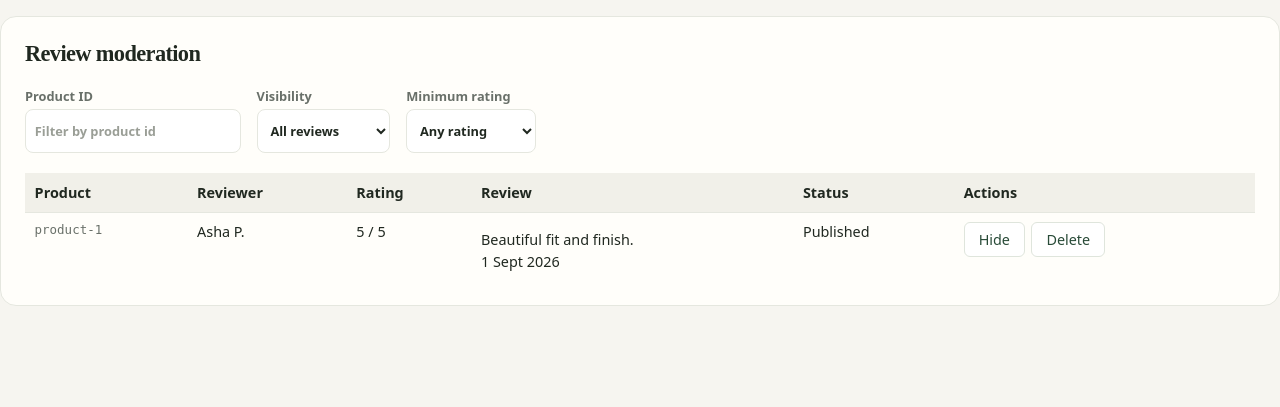
it: ReviewsModerationSection › hides a review and reflects the new state in the table
This screenshot has width=1280, height=407.
Expected: the text "Asha P." is shown, x1=188 y1=212 x2=347 y2=281
Click the button "Hide". click: (994, 240)
box: x1=964 y1=222 x2=1025 y2=257
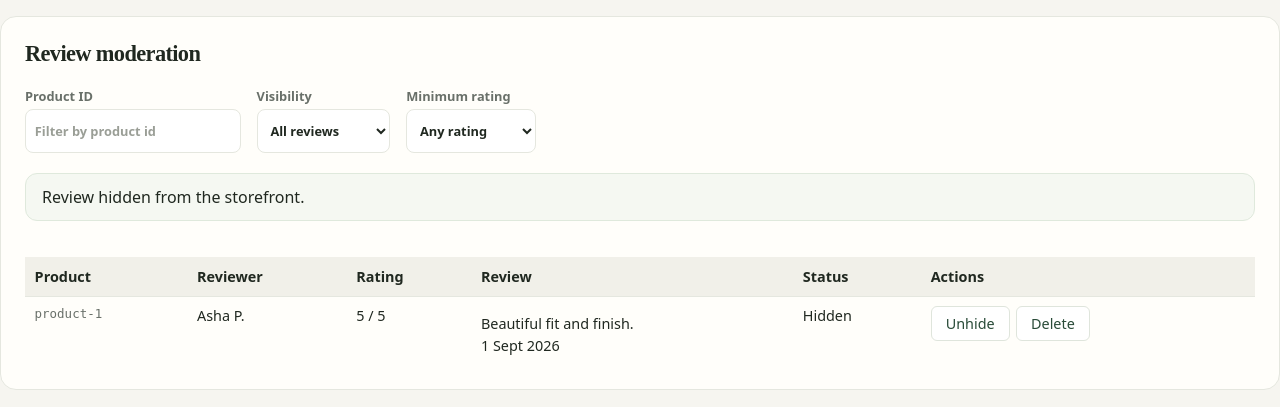
Expected: the text "Hidden" is shown, x1=793 y1=296 x2=921 y2=365
Expected: the button "Unhide" is shown, x1=931 y1=306 x2=1010 y2=341
Expected: the text "Review hidden from the storefront." is shown, x1=25 y1=173 x2=1255 y2=221
